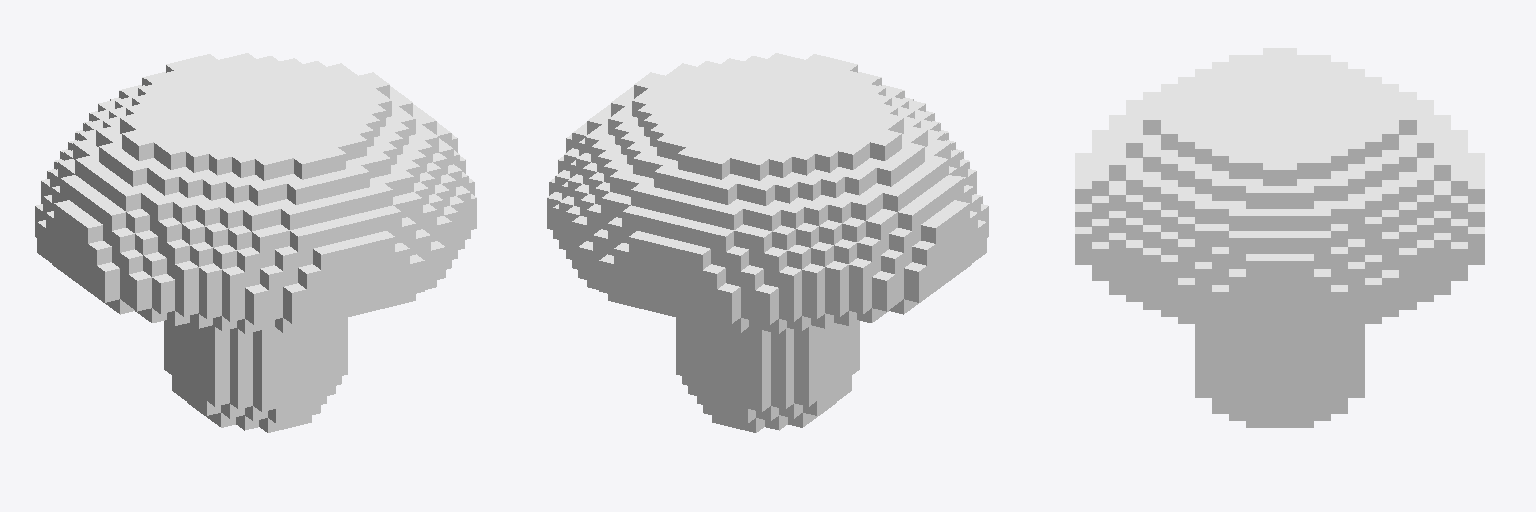
Rendered from mushroom_item.obj.
3 views of the same model, side by side, from view 1: azimuth 30°, elevation 25°; view 2: azimuth 150°, elevation 25°; view 3: azimuth 270°, elevation 25° (orthographic).
Visible parts, largest first — view 1: object 1; view 2: object 1; view 3: object 1.
Boxes of the visible parts, <box> form: object 1: <box>35,53,476,432</box>; object 1: <box>547,53,988,432</box>; object 1: <box>1075,48,1484,427</box>.
Size of the model in its own units: 2.5 by 1.9 by 2.4.